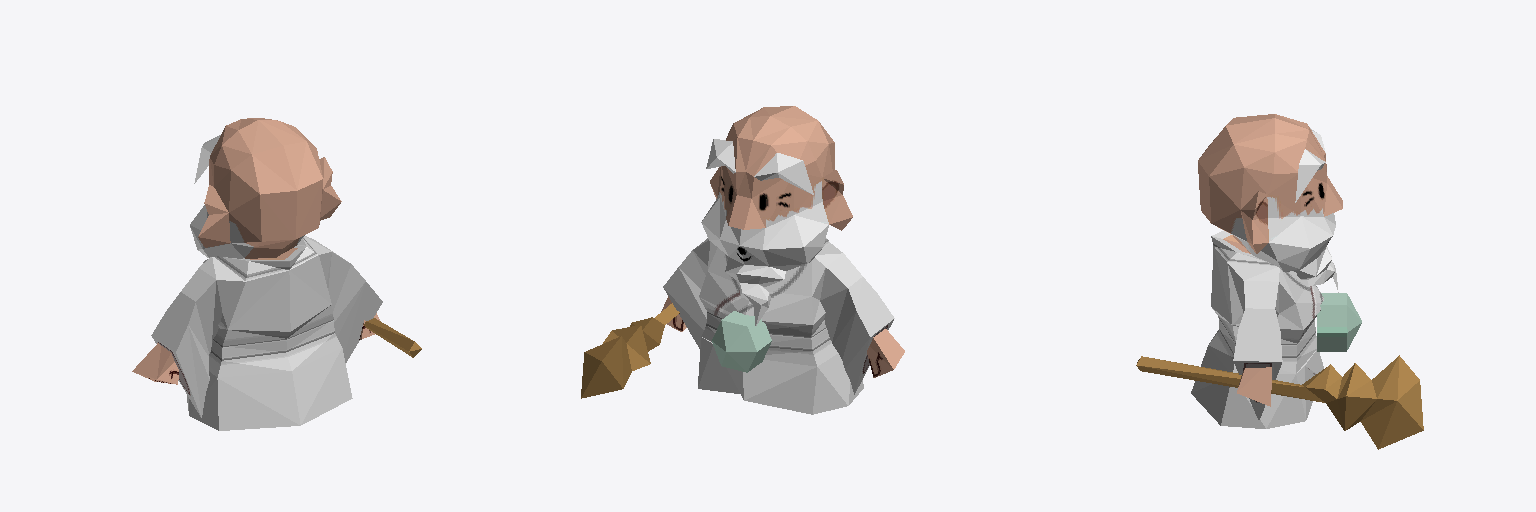
3 renders of one model, left to right at view 1: azimuth 30°, elevation 25°; view 2: azimuth 150°, elevation 25°; view 3: azimuth 270°, elevation 25°, orthographic.
Bounding box in the file's own units: 3.79 × 4 × 3.78.
1 materials, 1 textured.